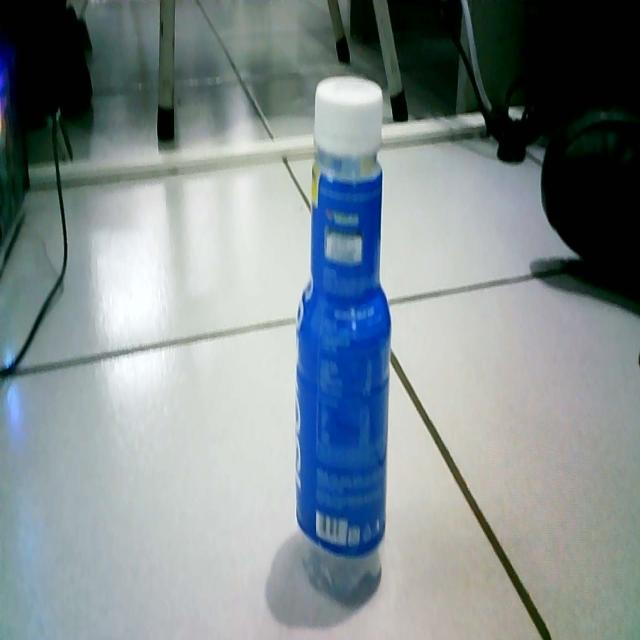botol: (290, 68, 395, 597)
